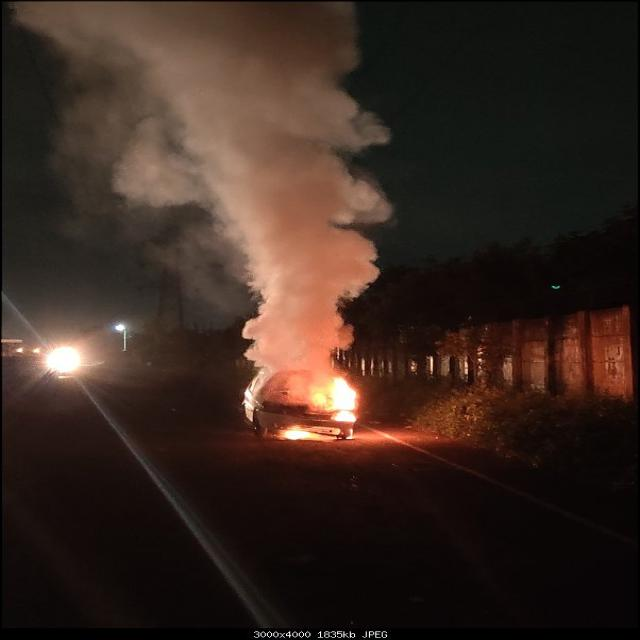smoke: (78, 5, 340, 173), (248, 190, 356, 358)
